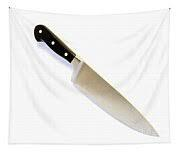Knife: (33, 23, 159, 137)
